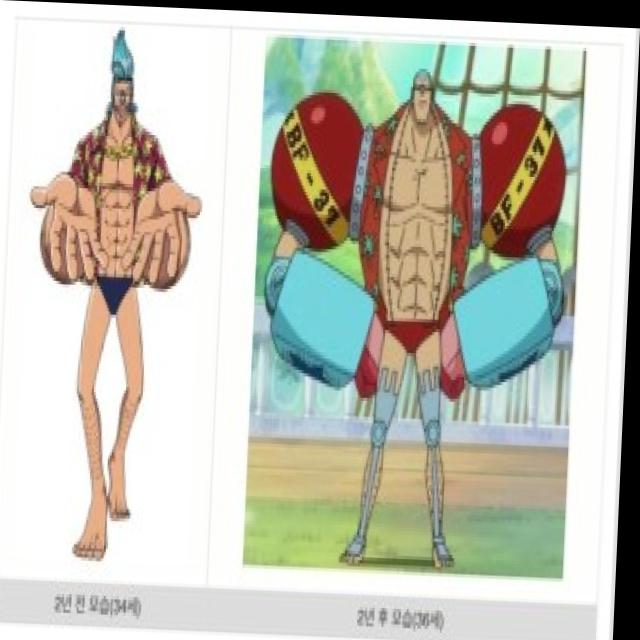Franky: (98, 24, 149, 132), (408, 65, 439, 130)
